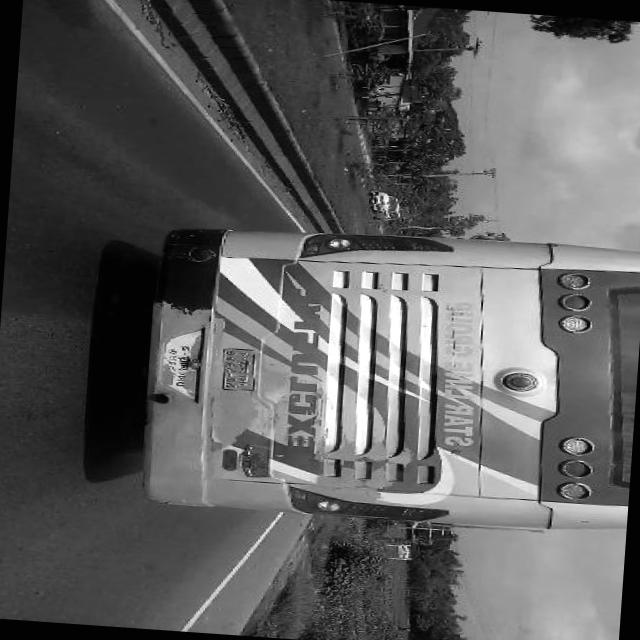bus: (144, 222, 640, 539)
car: (368, 192, 404, 220)
